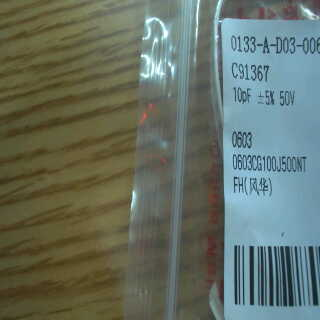10pF: (231, 86, 253, 109)
